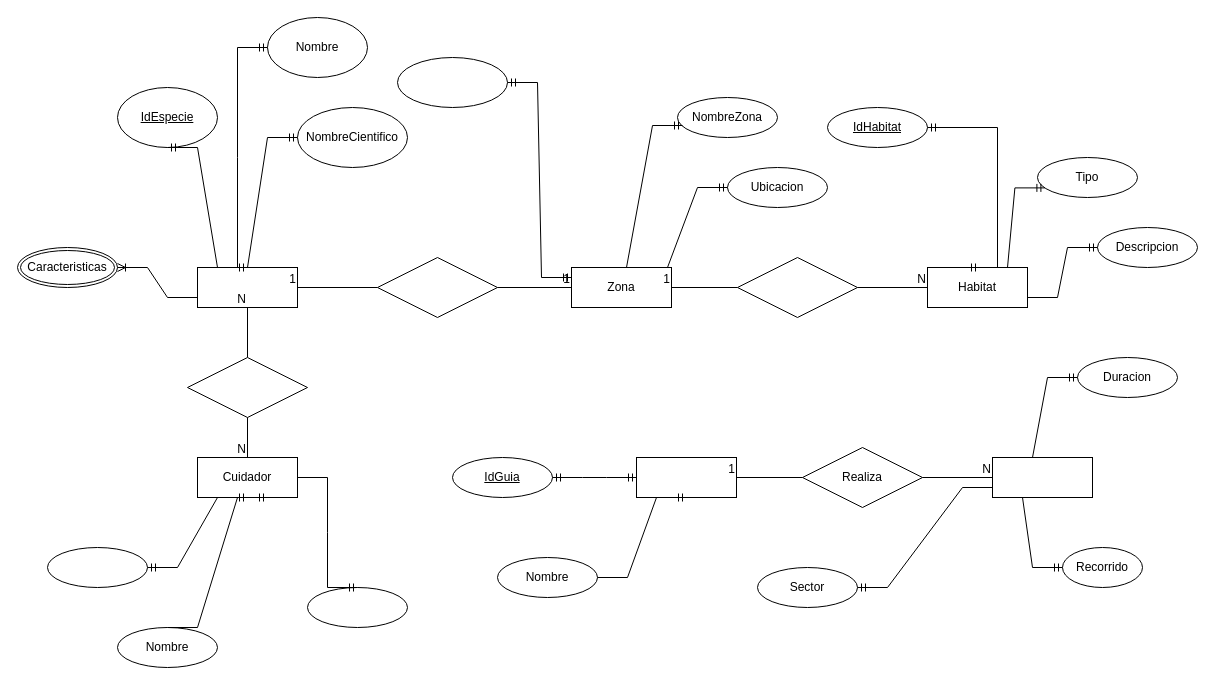
This 1215x685 diagram has some shape labels left out. The shapes that lost their labels are listed below. From the top down, each one's centre as x and y in pixels, then its label:
At point (452, 82): "IdZona".
At point (247, 287): "Especie".
At point (437, 287): "SeEncuentra".
At point (797, 287): "Tiene".
At point (247, 387): "ACargo".
At point (686, 477): "Guia".
At point (1042, 477): "Itinerario".
At point (97, 567): "IdCuidador".
At point (357, 607): "Especialidad".
